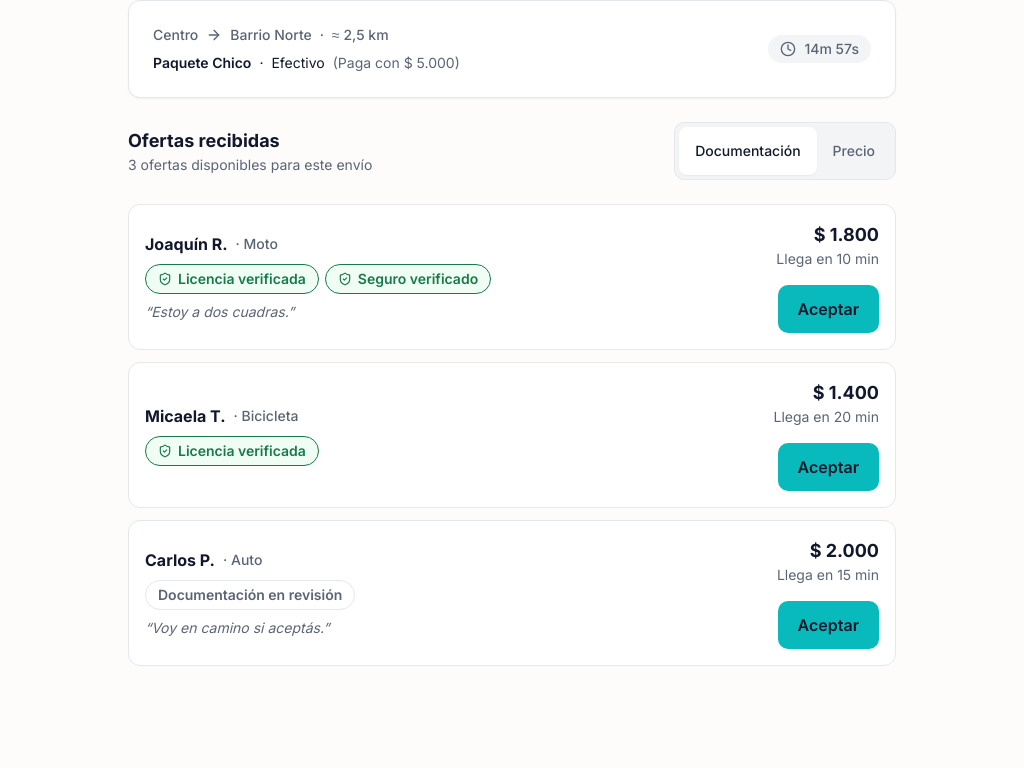
it: T-113 DoD: UI de ofertas en tiempo real y aceptación › T-365: defensa de ofertas elegibles y estados terminales en RequestOffersList › tras OFFER_NOT_PENDING invoca refetch/fetch, la respuesta actualizada elimina la oferta y el error se anuncia al usuario
Click the button "Aceptar" below "10" at [828, 309], box top-left (778, 285), bottom-right (879, 333)
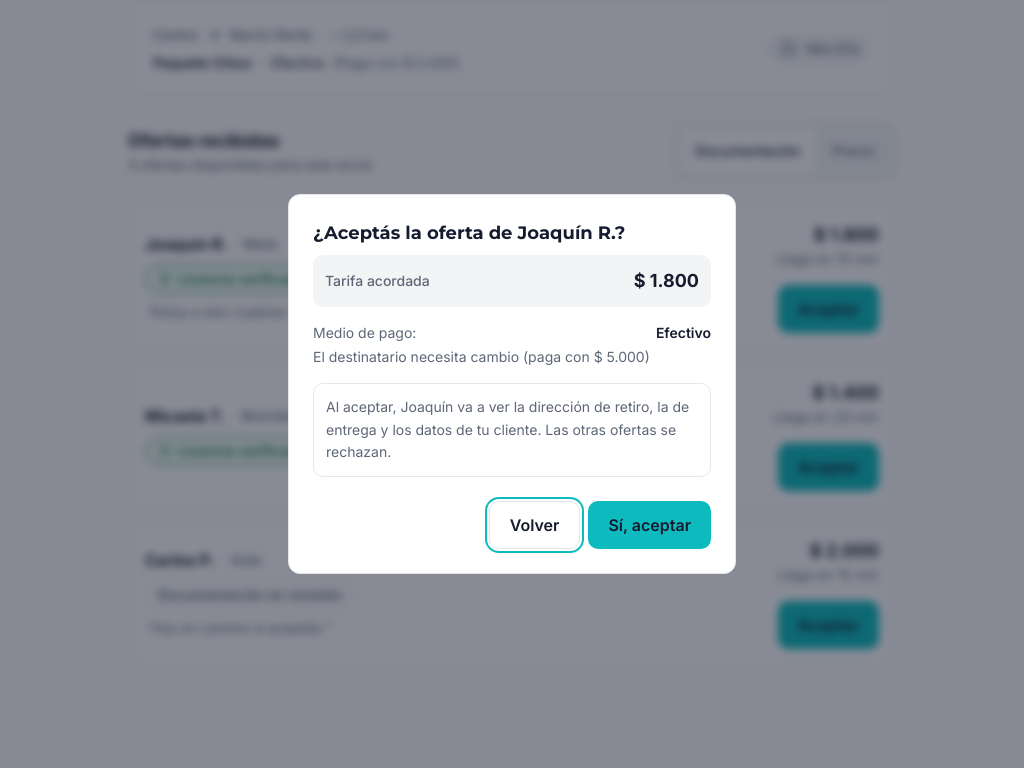
Click the button "Sí, aceptar" at [650, 525], box top-left (588, 501), bottom-right (711, 549)
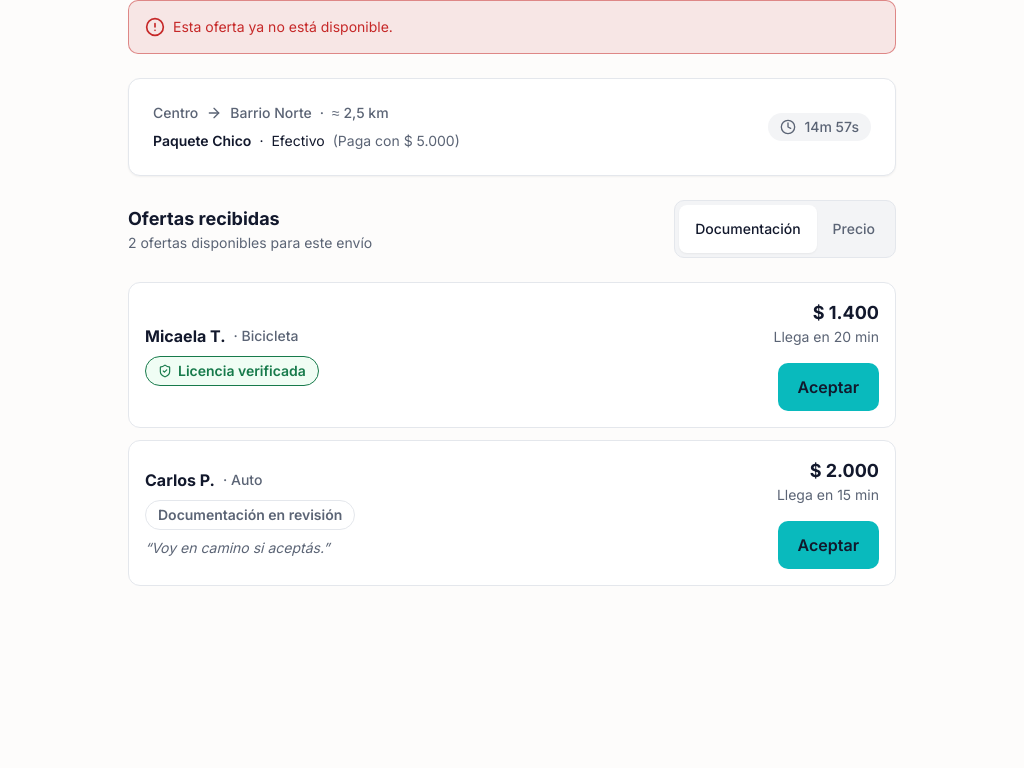
Now the heading "Joaquín R." is gone
Now the dialog is gone
Now the message "Esta oferta ya no está disponible." is shown, box top-left (128, 0), bottom-right (896, 54)
